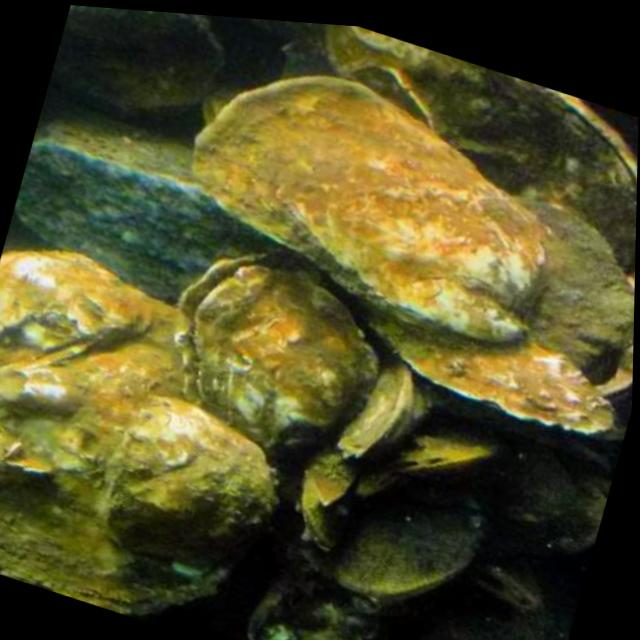Oyster-Closed: (176, 256, 386, 457), (533, 91, 638, 278), (358, 435, 494, 493), (298, 475, 353, 553), (473, 562, 543, 611), (599, 343, 633, 403), (200, 82, 246, 122)
Oyster-Indeterminate: (195, 76, 551, 343), (0, 291, 235, 611), (96, 395, 276, 559), (377, 324, 612, 435), (503, 194, 635, 387), (0, 257, 150, 383), (336, 483, 486, 596), (248, 536, 407, 640), (489, 449, 607, 561), (333, 361, 424, 462)
